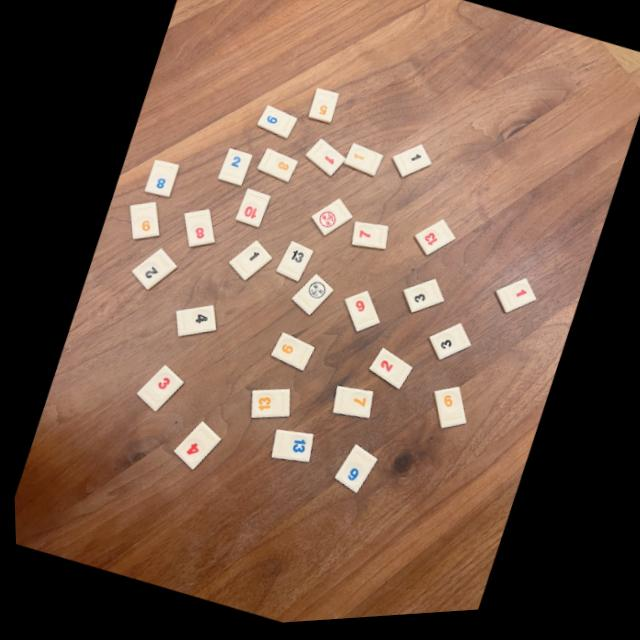black_1: (227, 244, 270, 284), (391, 151, 429, 183)
black_13: (274, 245, 312, 286)
black_2: (130, 251, 175, 292)
black_3: (427, 331, 468, 366), (401, 285, 441, 318)
black_4: (174, 308, 213, 338)
blue_13: (269, 433, 310, 466)
blue_2: (217, 153, 252, 190)
blue_6: (332, 450, 374, 497), (257, 110, 295, 143)
blue_8: (143, 162, 178, 199)
joker: (290, 279, 332, 319), (310, 203, 351, 240)
orange_1: (343, 148, 381, 181)
orange_13: (249, 394, 287, 422)
orange_5: (307, 93, 338, 128)
orange_6: (270, 336, 312, 375), (431, 393, 463, 434)
orange_7: (330, 390, 370, 423)
orange_8: (257, 152, 296, 186)
orange_9: (128, 205, 157, 241)
red_1: (305, 144, 344, 181), (493, 285, 534, 320)
red_10: (234, 193, 269, 231)
red_13: (413, 227, 453, 261)
red_2: (367, 353, 410, 394)
red_3: (134, 367, 181, 413)
red_4: (171, 425, 218, 472)
red_7: (350, 226, 386, 254)
red_8: (182, 212, 212, 250)
red_9: (343, 297, 377, 336)
